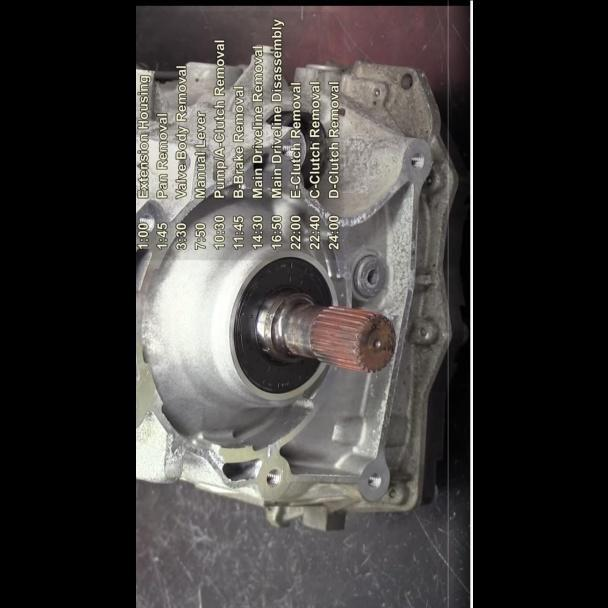hole: (263, 467, 282, 490), (409, 150, 427, 169), (366, 471, 382, 488)
